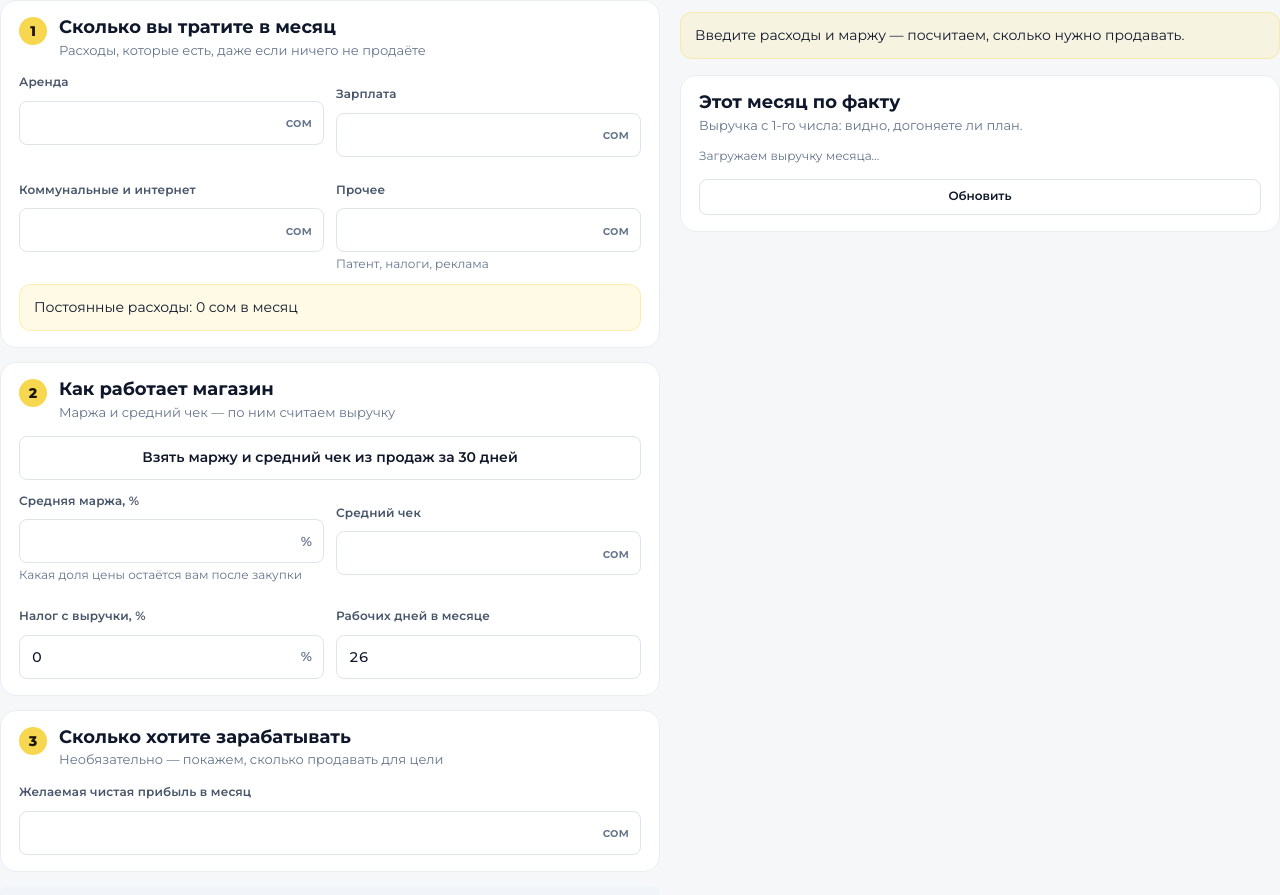
Test: «Безубыточность» › 0 рабочих дней — ошибка, а не «0 сом в день»
The image size is (1280, 895).
Type "80000" into the field labelled "Аренда" at (172, 123), box [19,101,324,145]
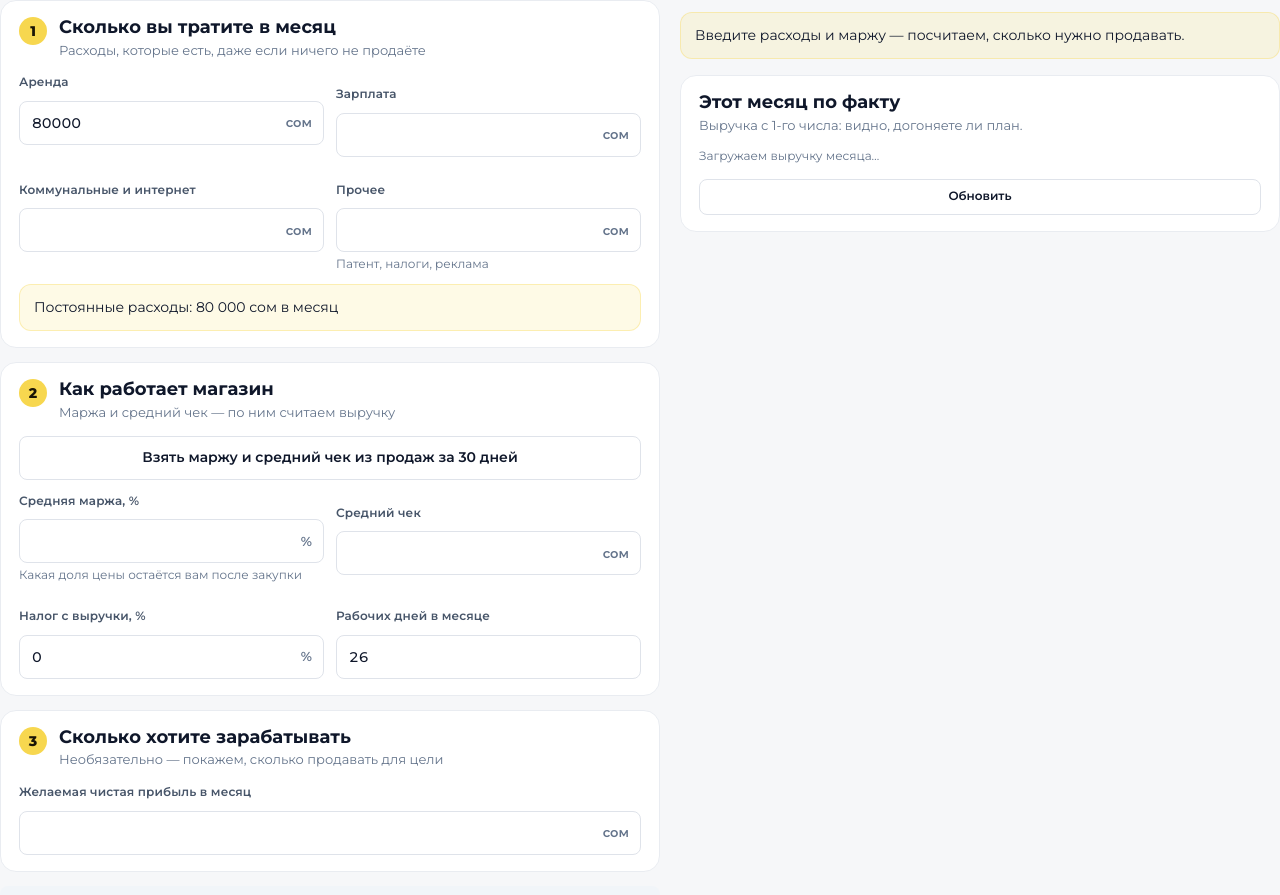
Type "25" into the field labelled "Средняя маржа, %" at (172, 541), box [19,519,324,563]
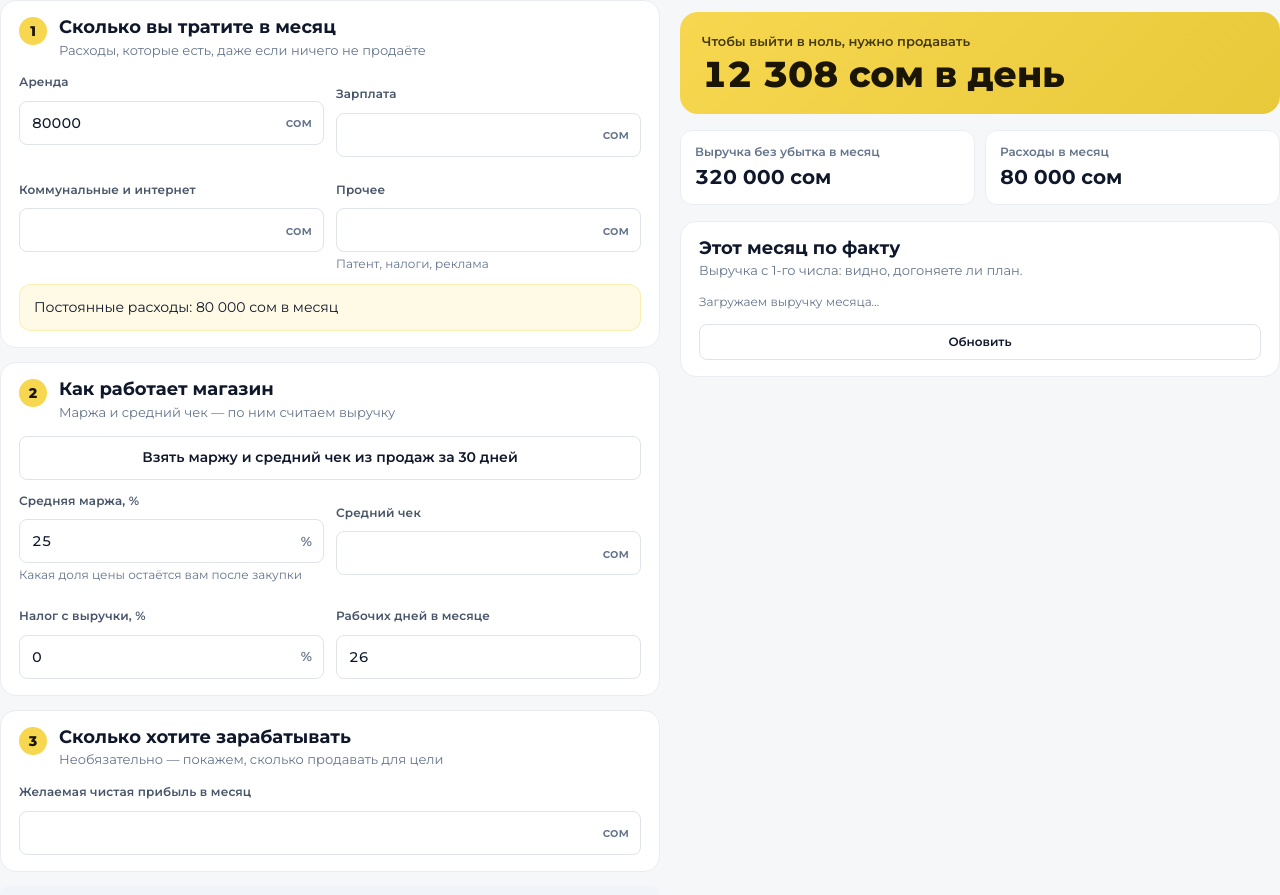
Replace the text in the field labelled "Рабочих дней в месяце" with "0" at (488, 657), box [336,635,641,679]
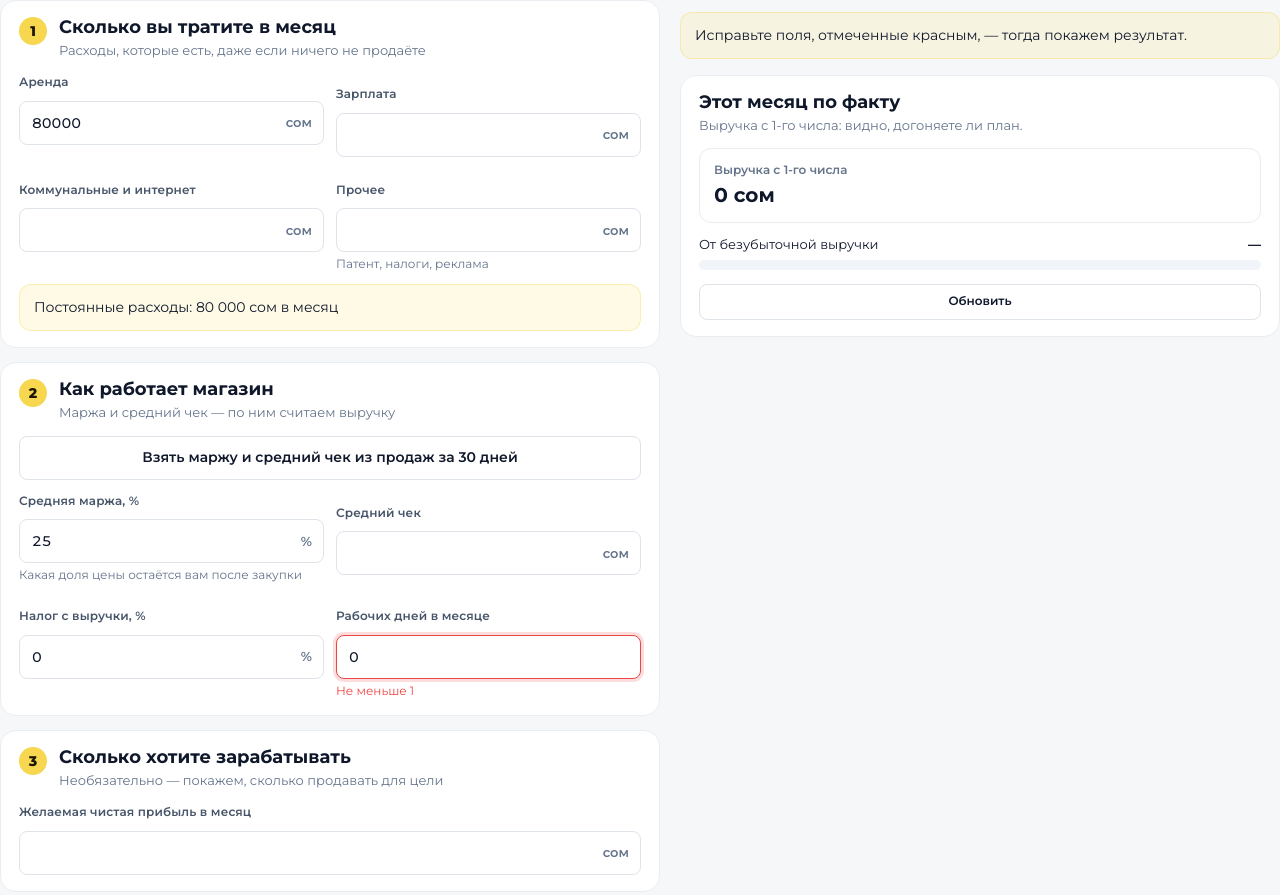
Expected: the text "Не меньше 1" is shown, [336,683,414,698]
